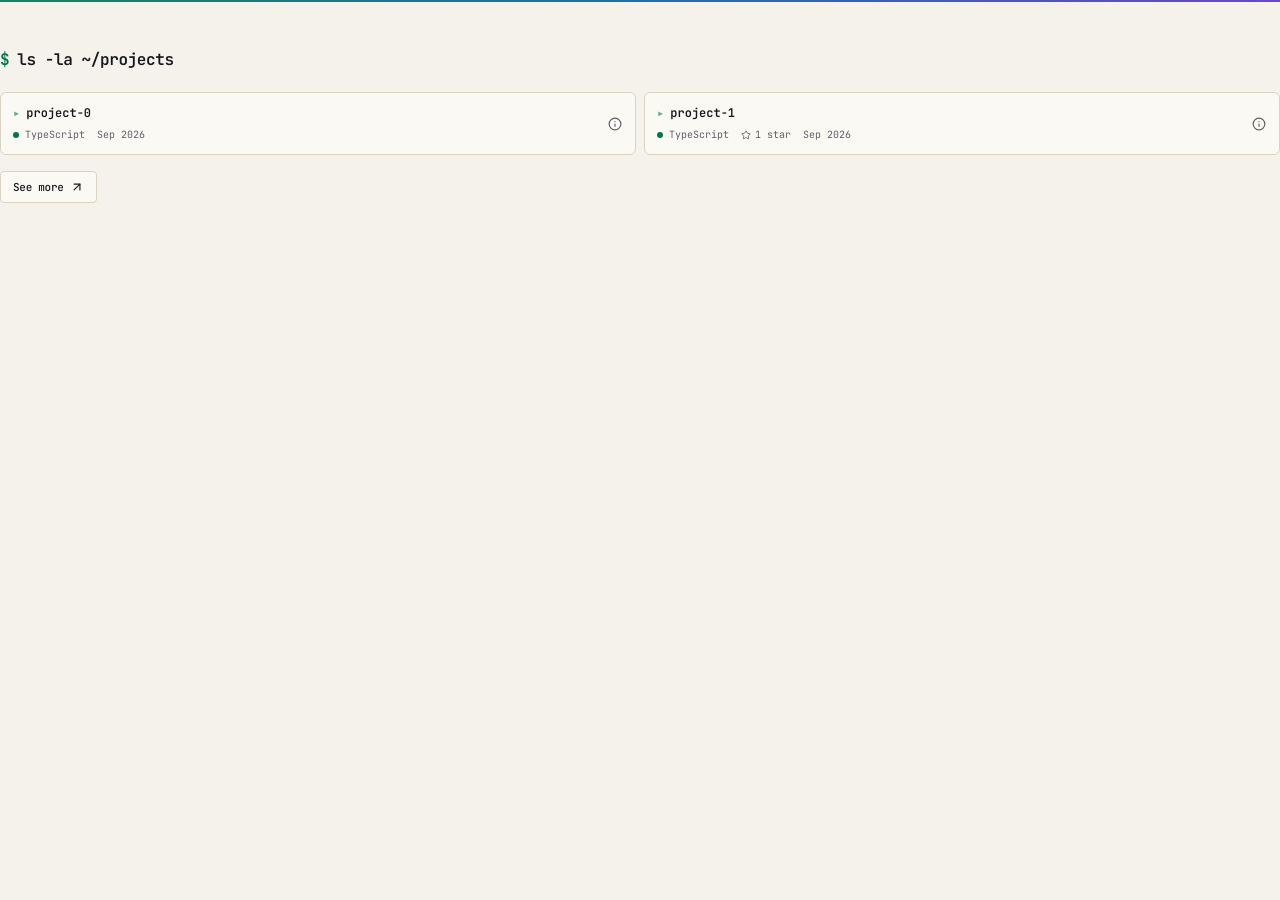
<Projects /> › keeps the description in the details popover, not on the card
Expected: the text "project-1" is shown, [670,105,735,121]
Expected: the text "Description 1." is not shown
Click the button named "Details about project-1". click: (1259, 124)
box: [1245,110,1273,138]
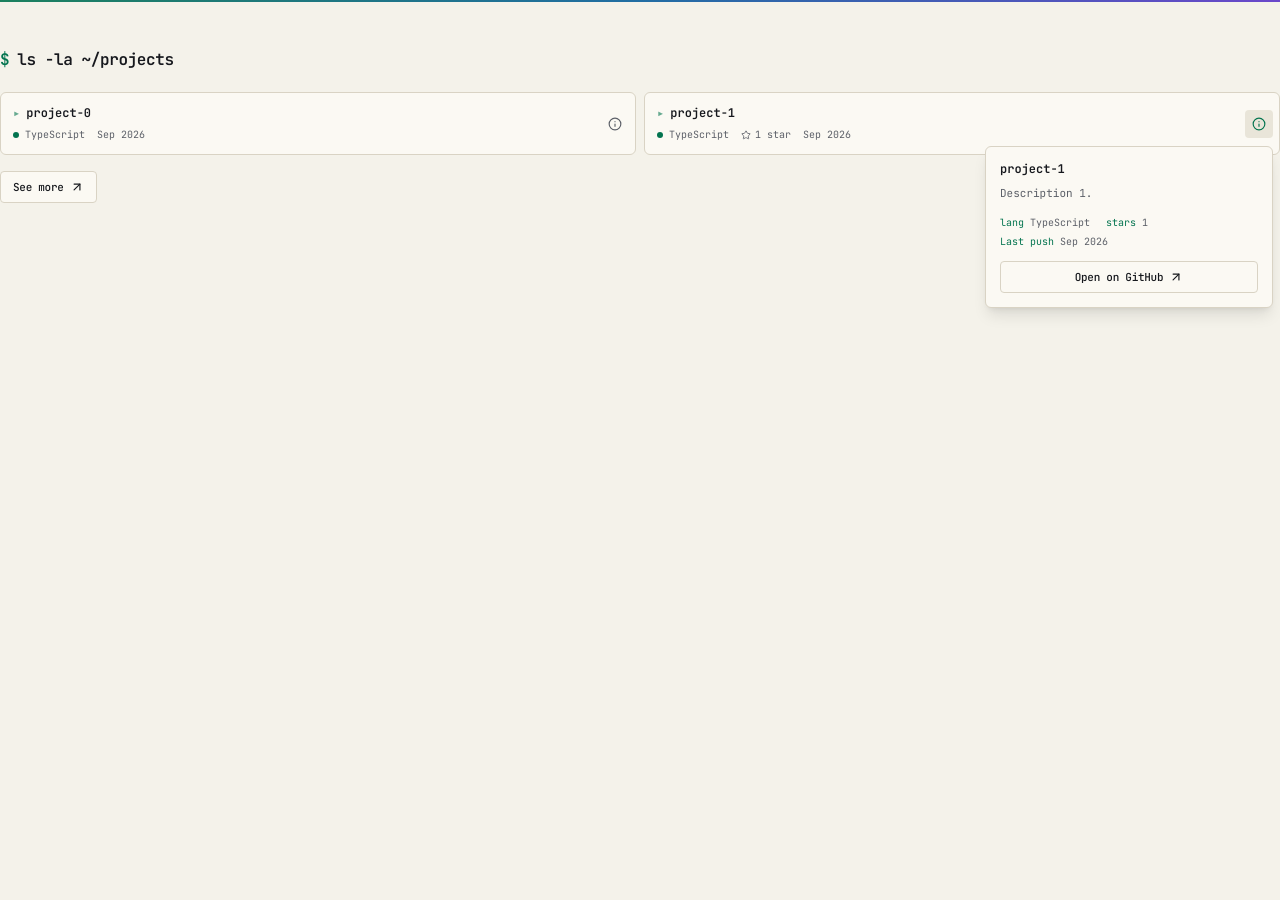
Result: the text "Description 1." is shown at [1000,186,1092,200]
